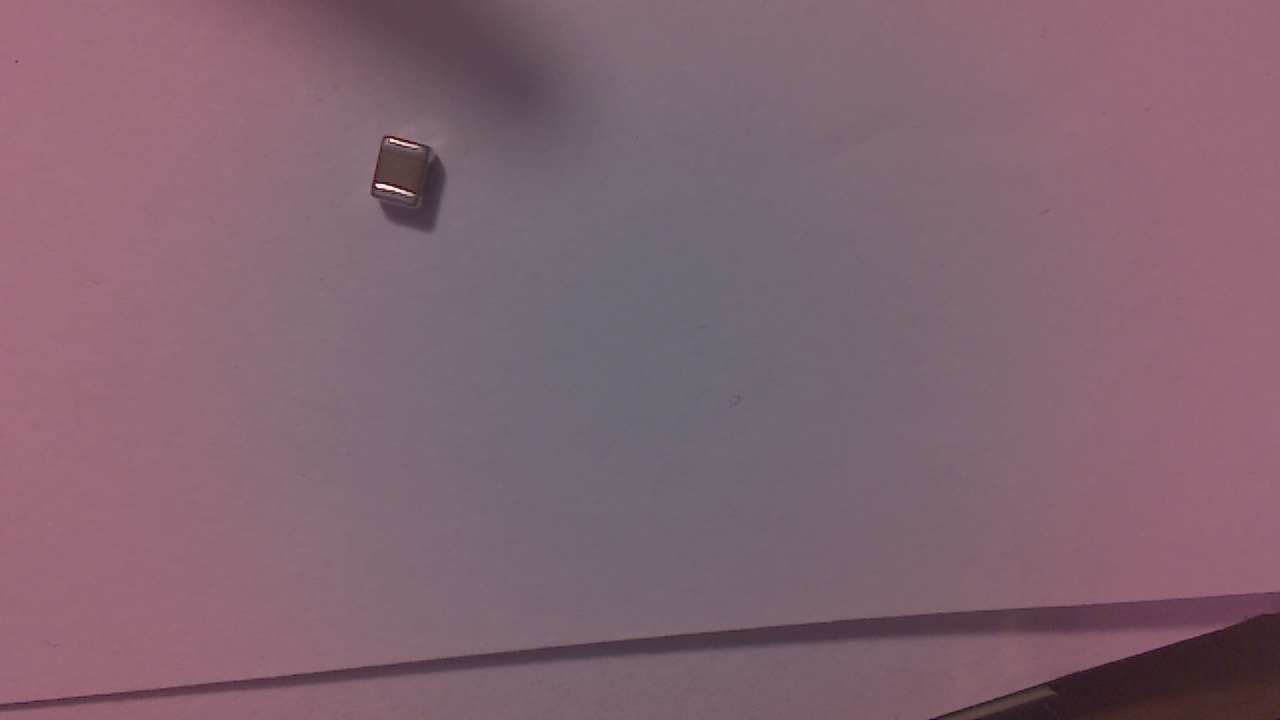Condensator: (374, 141, 447, 215)
